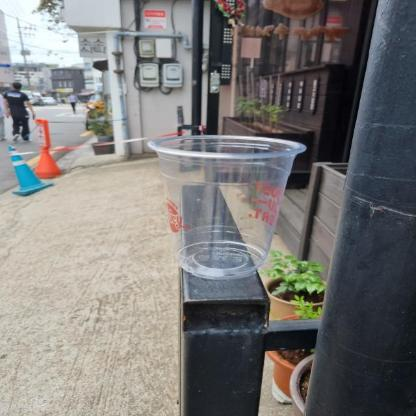Plastic Cup: (149, 134, 308, 280)
